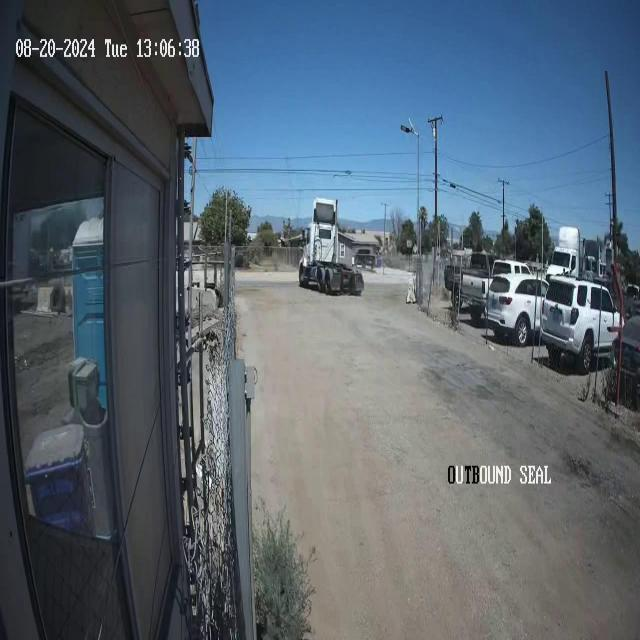TRUCK_OUT: (298, 196, 364, 296)
